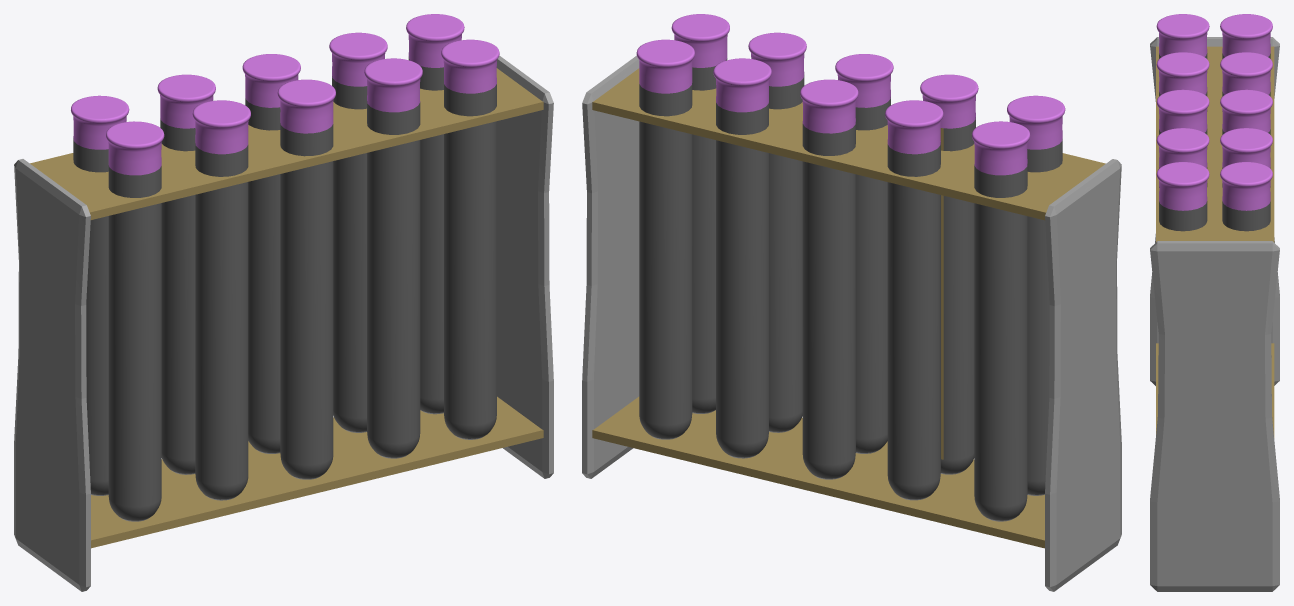
The model's file is FilledTestTubeRack.fbx.
3 renders of one model, left to right at view 1: azimuth 30°, elevation 25°; view 2: azimuth 150°, elevation 25°; view 3: azimuth 270°, elevation 25°, orthographic. The views are drawn at different scales.
Parts seen in each view (by area): view 1: group2; view 2: group2; view 3: group2.
Part boxes in pixels (left/top/right/bottom): group2: left=14, top=14, right=553, bottom=591; group2: left=582, top=14, right=1121, bottom=591; group2: left=1150, top=14, right=1279, bottom=591.
Bounding box in the file's own units: 3.68 × 3.21 × 0.9688.
